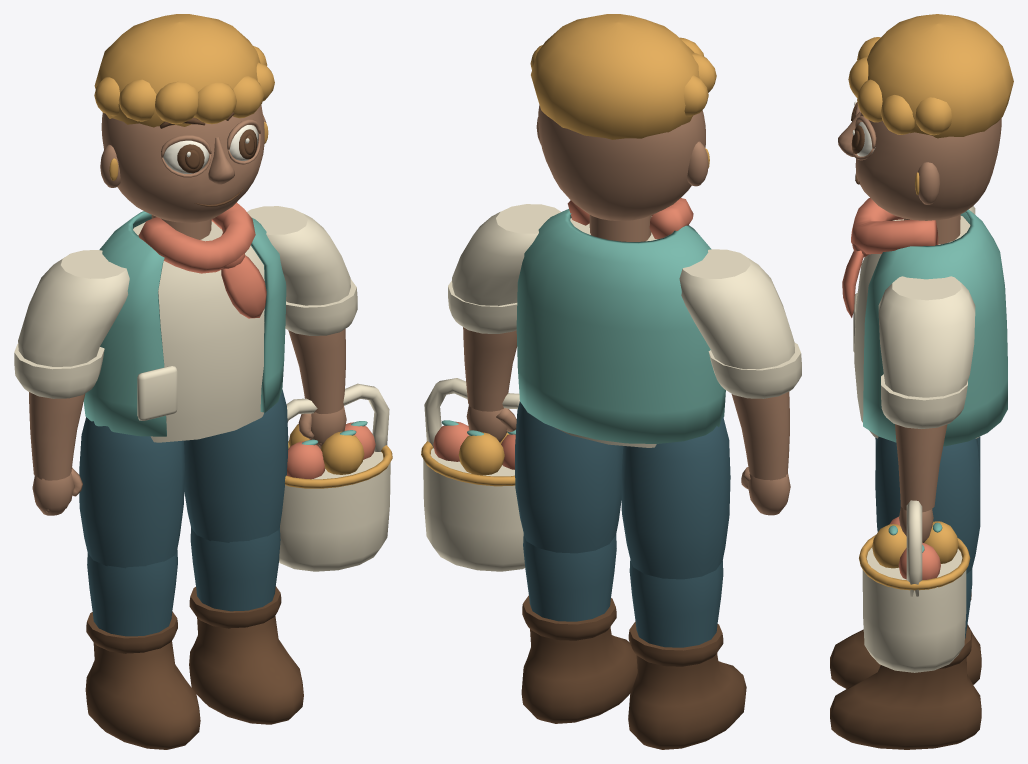
File: world04-fruit-seller-v2.glb
3 renders of one model, left to right at view 1: azimuth 30°, elevation 25°; view 2: azimuth 150°, elevation 25°; view 3: azimuth 270°, elevation 25°, orthographic. The views are drawn at different scales.
Visible parts, largest first — view 1: hero-upper__MAT_linen, head-joint__MAT_ochre, hero-upper__MAT_teal, left-hip__MAT_teal_dark, head-joint__MAT_skin, left-shoulder__MAT_linen, right-hip__MAT_teal_dark, right-elbow__MAT_linen, right-knee__MAT_leather, left-knee__MAT_leather, right-shoulder__MAT_linen, hero-upper__MAT_coral (+8 smaller); view 2: hero-upper__MAT_teal, head-joint__MAT_ochre, left-hip__MAT_teal_dark, head-joint__MAT_skin, left-shoulder__MAT_linen, right-hip__MAT_teal_dark, left-knee__MAT_leather, right-knee__MAT_leather, right-elbow__MAT_linen, right-shoulder__MAT_linen, right-knee__MAT_teal_dark, left-knee__MAT_teal_dark (+5 smaller); view 3: head-joint__MAT_ochre, hero-upper__MAT_teal, right-shoulder__MAT_linen, head-joint__MAT_skin, right-knee__MAT_leather, right-elbow__MAT_linen, right-hip__MAT_teal_dark, hero-upper__MAT_coral, right-elbow__MAT_skin, right-elbow__MAT_ochre, left-knee__MAT_leather, hero-upper__MAT_linen (+2 smaller).
Part boxes in pixels (<box>): hero-upper__MAT_linen: <box>133,221,264,442</box>; head-joint__MAT_ochre: <box>94,14,274,180</box>; hero-upper__MAT_teal: <box>83,211,286,436</box>; left-hip__MAT_teal_dark: <box>79,417,184,568</box>; head-joint__MAT_skin: <box>100,105,266,239</box>; left-shoulder__MAT_linen: <box>14,250,129,398</box>; right-hip__MAT_teal_dark: <box>184,389,288,542</box>; right-elbow__MAT_linen: <box>279,383,390,571</box>; right-knee__MAT_leather: <box>189,586,303,724</box>; left-knee__MAT_leather: <box>85,611,200,749</box>; right-shoulder__MAT_linen: <box>247,206,357,335</box>; hero-upper__MAT_coral: <box>138,202,266,318</box>; hero-upper__MAT_teal: <box>516,209,725,443</box>; head-joint__MAT_ochre: <box>530,14,716,167</box>; left-hip__MAT_teal_dark: <box>621,416,730,579</box>; head-joint__MAT_skin: <box>536,105,708,241</box>; left-shoulder__MAT_linen: <box>679,249,801,398</box>; right-hip__MAT_teal_dark: <box>515,401,623,553</box>; left-knee__MAT_leather: <box>628,621,746,749</box>; right-knee__MAT_leather: <box>521,595,637,723</box>; right-elbow__MAT_linen: <box>423,378,525,571</box>; right-shoulder__MAT_linen: <box>448,204,560,333</box>; right-knee__MAT_teal_dark: <box>523,533,616,621</box>; left-knee__MAT_teal_dark: <box>629,560,723,647</box>; head-joint__MAT_ochre: <box>848,14,1013,194</box>; hero-upper__MAT_teal: <box>863,209,1007,446</box>; right-shoulder__MAT_linen: <box>878,276,975,428</box>; head-joint__MAT_skin: <box>838,104,1001,244</box>; right-knee__MAT_leather: <box>830,627,981,749</box>; right-elbow__MAT_linen: <box>862,500,966,672</box>; right-hip__MAT_teal_dark: <box>875,436,980,573</box>; hero-upper__MAT_coral: <box>842,198,938,317</box>; right-elbow__MAT_skin: <box>895,424,947,542</box>; right-elbow__MAT_ochre: <box>859,521,970,590</box>; left-knee__MAT_leather: <box>830,592,981,688</box>; hero-upper__MAT_linen: <box>853,216,979,438</box>.
Size of the model in its own units: 1.15 by 2.05 by 0.4989.
